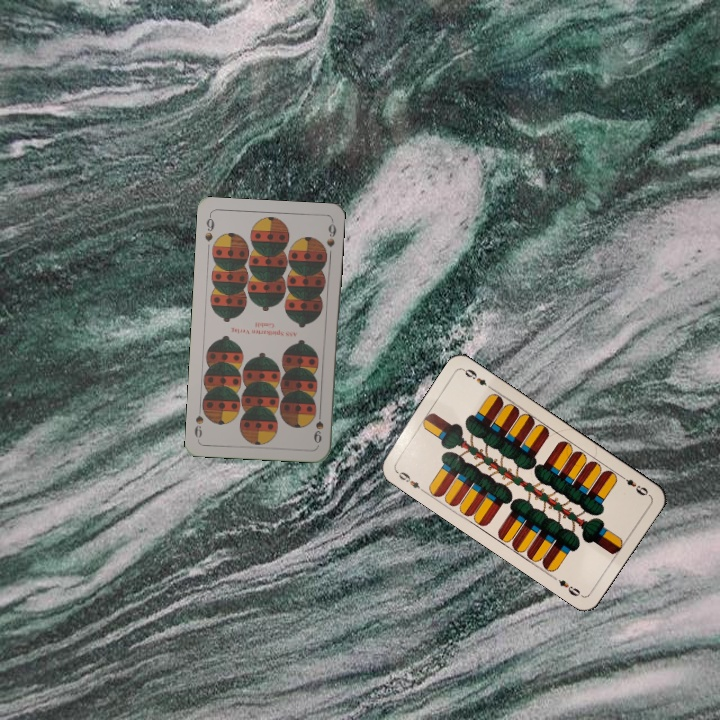E9: (392, 466, 427, 494), (616, 471, 651, 498)
S9: (310, 406, 326, 446), (201, 211, 217, 244)
